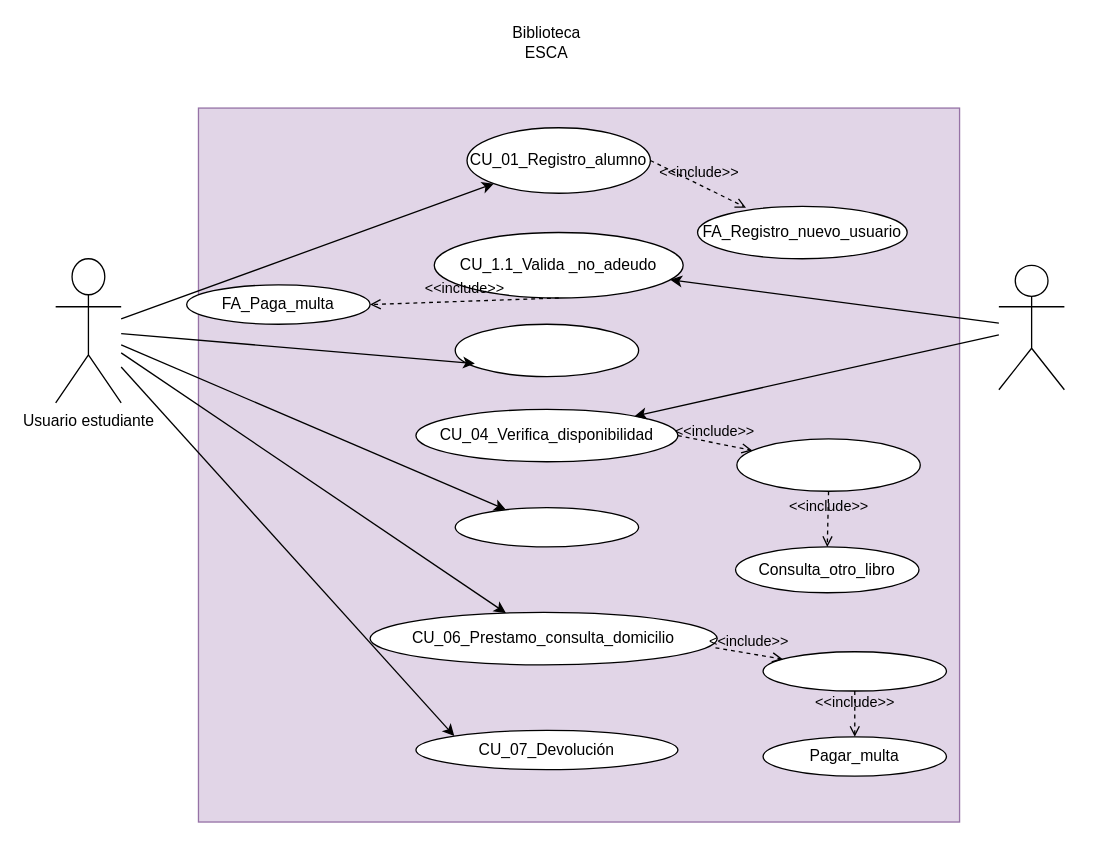
This 1102x845 diagram has some shape labels left out. The centre of each missing label's shape, as x and y in pixels:
Administrador: (1031,327)
Consulta_libro: (546,526)
CU_03_Pedir_préstamo: (546,350)
FA_Libro_dañado: (854,670)
FA_No_disponibilidad: (828,464)
